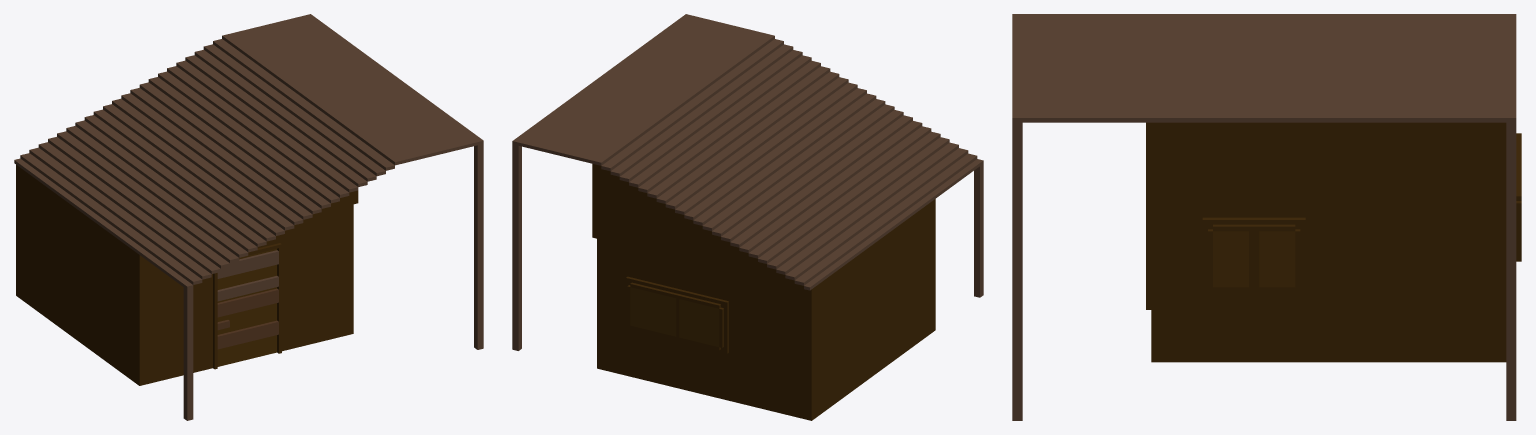
The model's file is Cabana.obj.
3 views of the same model, side by side, from view 1: azimuth 30°, elevation 25°; view 2: azimuth 150°, elevation 25°; view 3: azimuth 270°, elevation 25° (orthographic). The views are drawn at different scales.
Bounding box in the file's own units: 9.7 × 6.5 × 9.9.
1 material, 1 textured.
